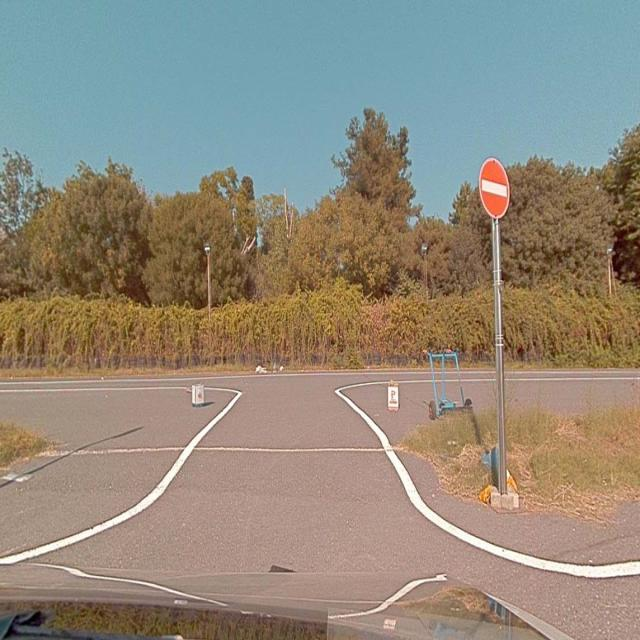girisyok: (478, 159, 508, 217)
